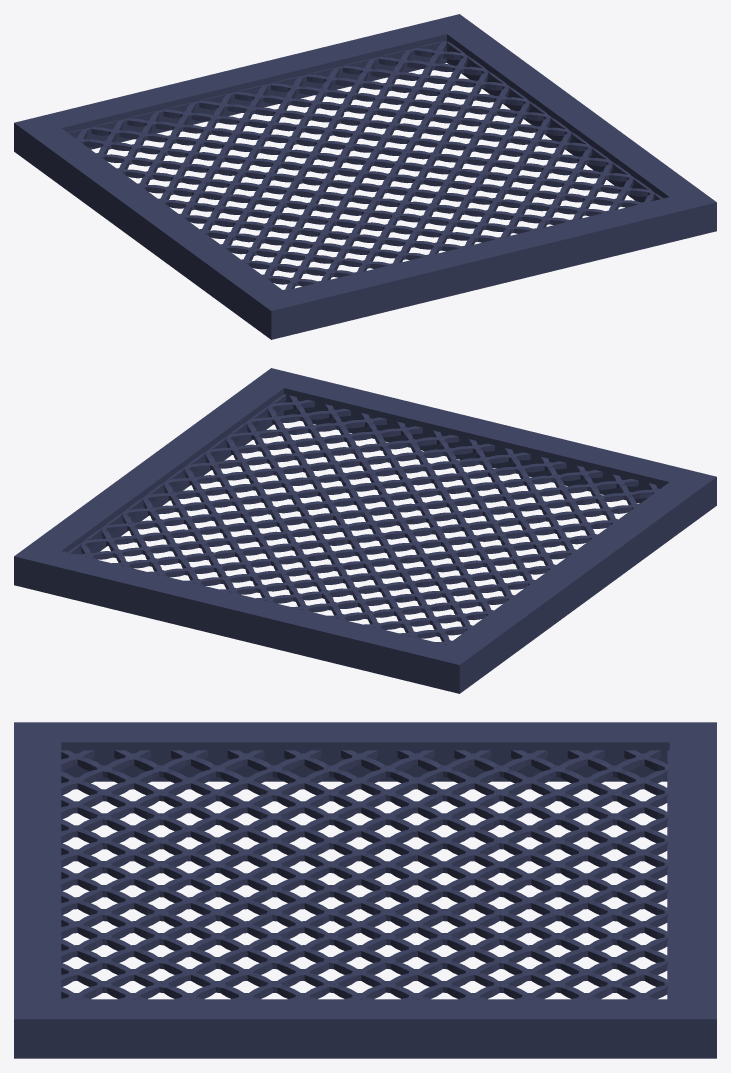
The model's file is Grillage 1.fbx.
3 renders of one model, top to bottom at view 1: azimuth 30°, elevation 25°; view 2: azimuth 150°, elevation 25°; view 3: azimuth 270°, elevation 25°, orthographic. The views are drawn at different scales.
Parts seen in each view (by area): view 1: Plane.003, Cube.001; view 2: Plane.003, Cube.001; view 3: Plane.003, Cube.001.
Boxes of the visible parts, <box> form: Plane.003: <box>68,41,662,290</box>; Cube.001: <box>14,14,716,339</box>; Plane.003: <box>68,394,659,644</box>; Cube.001: <box>14,368,716,693</box>; Plane.003: <box>61,750,669,999</box>; Cube.001: <box>14,722,716,1058</box>.
Bounding box in the file's own units: 135 × 8.33 × 135.
